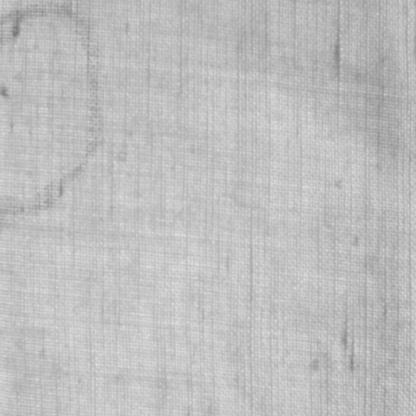oil spot: (0, 1, 106, 219)
